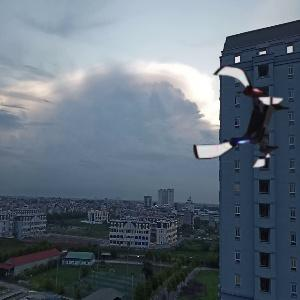drone: (188, 63, 297, 172)
